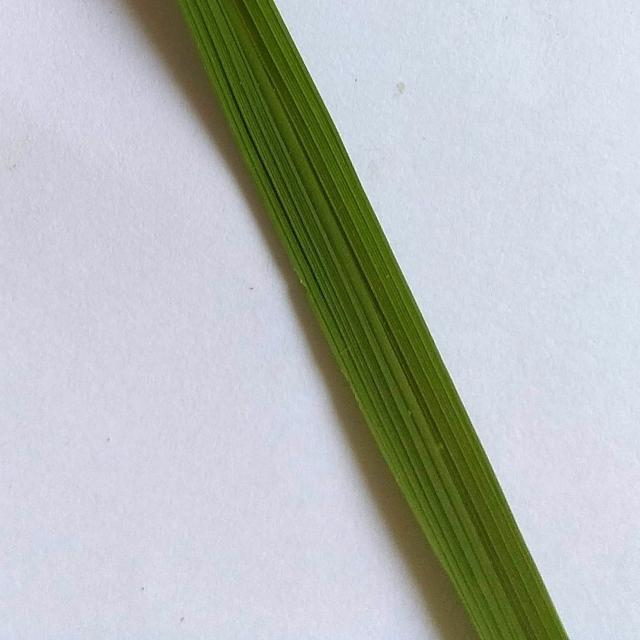Rice_Healthy: (179, 0, 569, 640)
